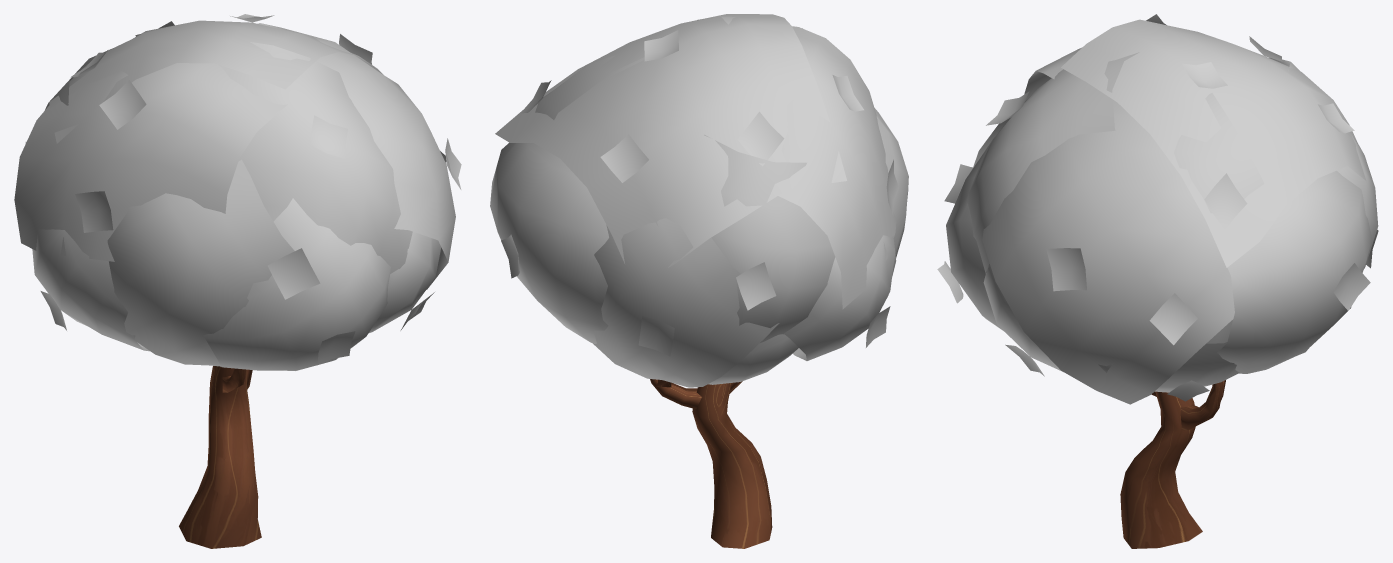
The model's file is appletree_v1_fix.fbx.
3 renders of one model, left to right at view 1: azimuth 30°, elevation 25°; view 2: azimuth 150°, elevation 25°; view 3: azimuth 270°, elevation 25°, orthographic.
Visible parts, largest first — view 1: polySurface2, polySurface1; view 2: polySurface2, polySurface1; view 3: polySurface2, polySurface1.
Part boxes in pixels (x1=…): polySurface2: x1=14, y1=14, x2=461, y2=370; polySurface1: x1=179, y1=366, x2=261, y2=548; polySurface2: x1=490, y1=14, x2=908, y2=387; polySurface1: x1=650, y1=379, x2=772, y2=548; polySurface2: x1=937, y1=14, x2=1378, y2=404; polySurface1: x1=1120, y1=380, x2=1225, y2=548.
Size of the model in its own units: 14.12 by 17.39 by 13.96.
